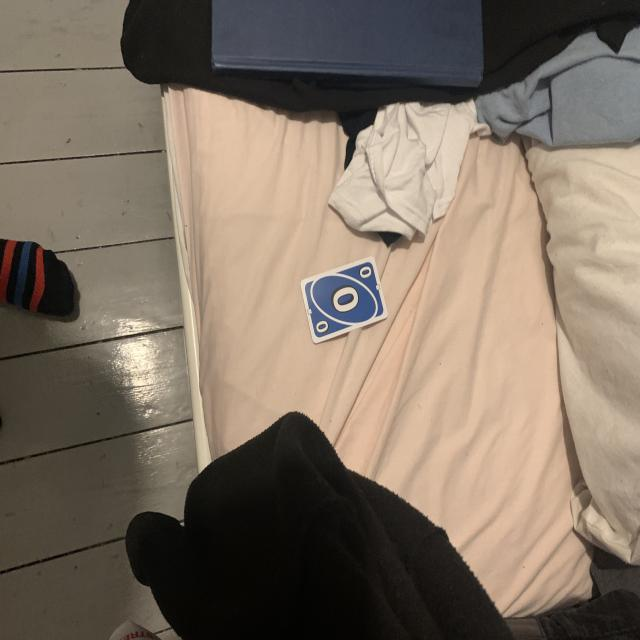lblue-0: (356, 262, 374, 280)
